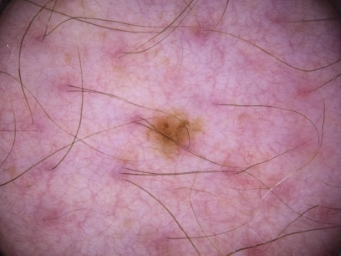nevus: (150, 118, 194, 158)
